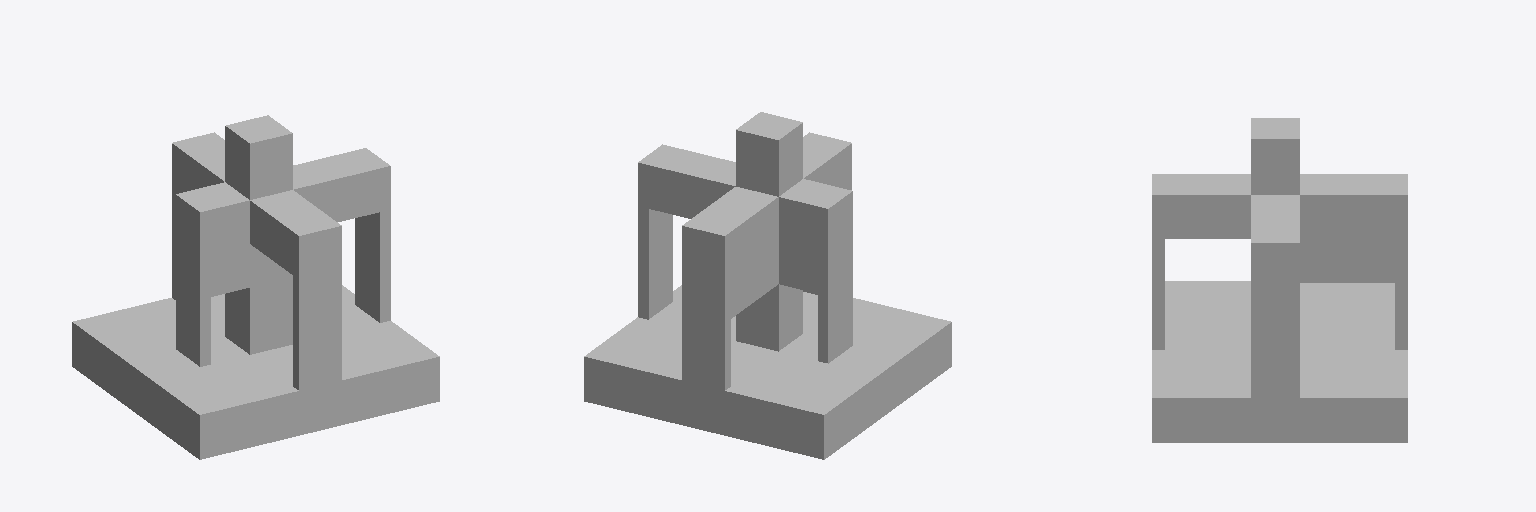
Rendered from chestie.obj.
The picture shows the model from 3 angles: view 1: azimuth 30°, elevation 25°; view 2: azimuth 150°, elevation 25°; view 3: azimuth 270°, elevation 25°; orthographic projection.
Parts seen in each view (by area): view 1: Cube; view 2: Cube; view 3: Cube.
Part boxes in pixels (left/top/right/bottom): Cube: left=72, top=115, right=439, bottom=459; Cube: left=584, top=112, right=951, bottom=459; Cube: left=1152, top=118, right=1407, bottom=442.
Bounding box in the file's own units: 11.2 × 11.41 × 10.3.